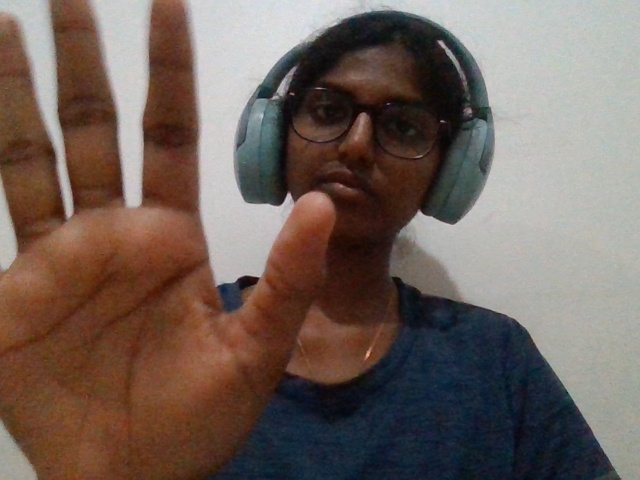Bye: (2, 1, 355, 480)
